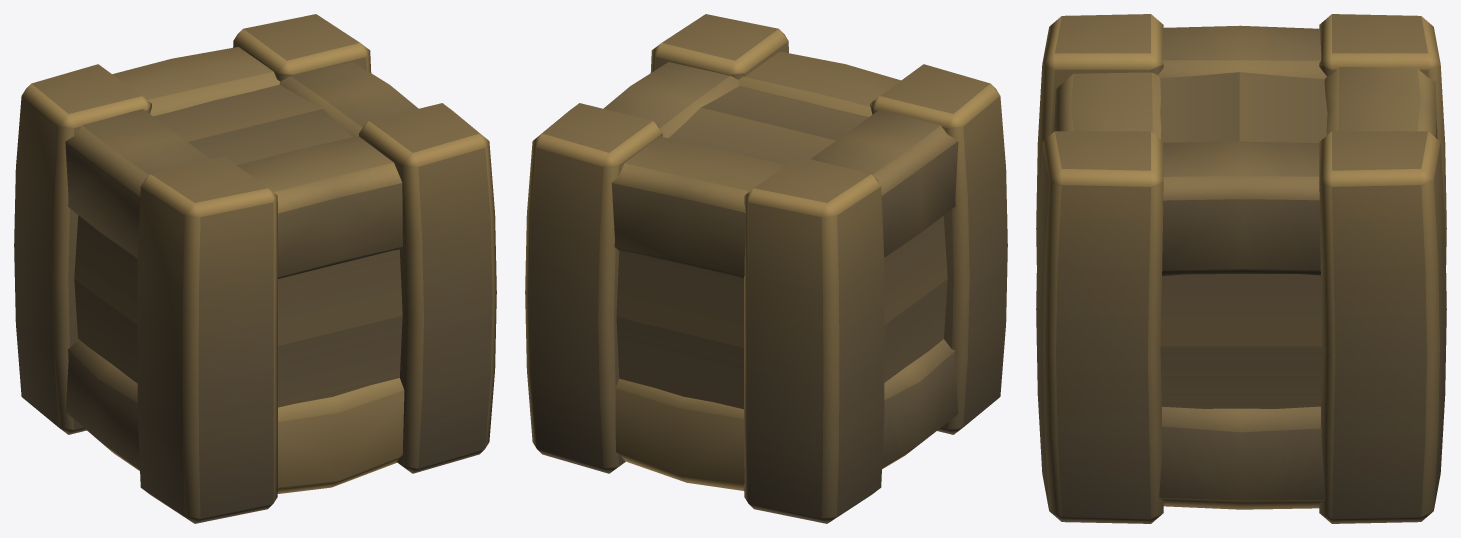
The model's file is box_wooden_4_destructible.fbx.
3 renders of one model, left to right at view 1: azimuth 30°, elevation 25°; view 2: azimuth 150°, elevation 25°; view 3: azimuth 270°, elevation 25°, orthographic. The views are drawn at different scales.
Visible parts, largest first — view 1: box_wooden_4_part1, box_wooden_4_part3, box_wooden_4_part2, box_wooden_4_part4, box_wooden_4_part6, box_wooden_4_part7, box_wooden_4_part5; view 2: box_wooden_4_part3, box_wooden_4_part5, box_wooden_4_part1, box_wooden_4_part4, box_wooden_4_part7, box_wooden_4_part2; view 3: box_wooden_4_part2, box_wooden_4_part5, box_wooden_4_part4, box_wooden_4_part3, box_wooden_4_part1.
Part boxes in pixels (box(x1,y1,x2,y2)): box_wooden_4_part1: box(74, 156, 277, 523); box_wooden_4_part3: box(14, 47, 279, 434); box_wooden_4_part2: box(359, 103, 496, 473); box_wooden_4_part4: box(153, 62, 418, 278); box_wooden_4_part6: box(277, 249, 404, 493); box_wooden_4_part7: box(65, 338, 139, 470); box_wooden_4_part5: box(233, 14, 371, 81); box_wooden_4_part3: box(611, 109, 958, 523); box_wooden_4_part5: box(525, 103, 662, 473); box_wooden_4_part1: box(870, 64, 1007, 434); box_wooden_4_part4: box(603, 51, 900, 164); box_wooden_4_part7: box(615, 339, 958, 490); box_wooden_4_part2: box(650, 14, 788, 79); box_wooden_4_part2: box(1036, 131, 1322, 523); box_wooden_4_part5: box(1159, 131, 1446, 523); box_wooden_4_part4: box(1054, 72, 1327, 275); box_wooden_4_part3: box(1158, 14, 1446, 264); box_wooden_4_part1: box(1036, 14, 1163, 264).
Bounding box in the file's own units: 106 × 101 × 106.
Materials: 1 (1 with a texture image).
